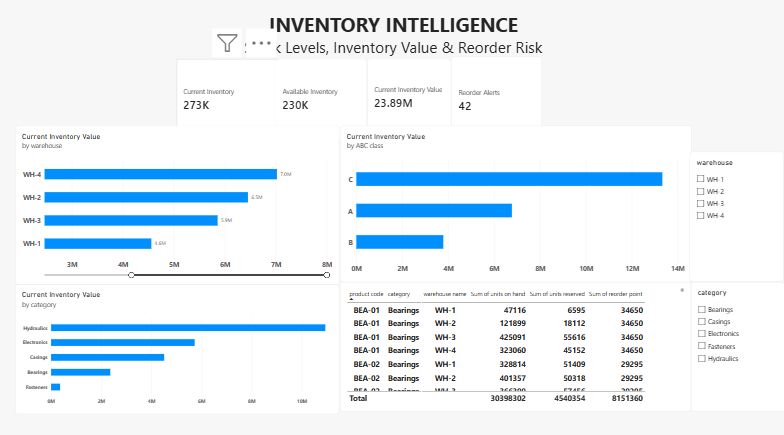

This screenshot's page, from the dashboard's own definition file:
{"tool":"powerbi","page":{"name":"Inventory Intelligence","canvas":[1920,1080],"ordinal":1},"visuals":[{"type":"textbox","box":[10,30,1910,143.3],"z":0},{"type":"cardVisual","fields":{"Data":["inventory_clean.Recent Inventory"]},"box":[433.2,148.9,245,200],"z":1000},{"type":"cardVisual","fields":{"Data":["inventory_clean.Available Inventory"]},"box":[676.8,148.9,222.5,200],"z":2000},{"type":"cardVisual","fields":{"Data":["inventory_clean.Current Inventory Value"]},"box":[900.1,148.9,205,190],"z":3000},{"type":"cardVisual","fields":{"Data":["inventory_clean.Reorder Alerts"]},"box":[1106.6,142.1,220,215],"z":4000},{"type":"clusteredBarChart","fields":{"Category":["warehouse_clean.warehouse_name"],"Y":["inventory_clean.Current Inventory Value"]},"box":[40.6,311.3,791.8,388.4],"z":5000},{"type":"clusteredBarChart","fields":{"Category":["product_clean.abc_class"],"Y":["inventory_clean.Current Inventory Value"]},"box":[832.5,311.3,859.5,382.4],"z":6000},{"type":"clusteredBarChart","fields":{"Category":["product_clean.category"],"Y":["inventory_clean.Current Inventory Value"]},"box":[40.6,700.5,792,317],"z":7000},{"type":"tableEx","fields":{"Values":["product_clean.product_code","product_clean.category","warehouse_clean.warehouse_name","Sum(inventory_clean.units_on_hand)","Sum(inventory_clean.units_reserved)","Sum(inventory_clean.reorder_point)"]},"box":[832.5,693.7,858,317],"z":8000},{"type":"listSlicer","fields":{"Values":["warehouse_clean.warehouse_name"]},"box":[1688.6,375.6,230,317],"z":9000},{"type":"listSlicer","fields":{"Values":["product_clean.category"]},"box":[1690,694,229,317],"z":10000}]}

Visuals, with their boxes in screenshot pixels (x1, y1, x2, y2), scaled from the page's 1920x1080 canvas onto the 784x435 screenshot:
textbox: Rect(4, 12, 783, 70)
cardVisual - inventory_clean.Recent Inventory: Rect(177, 60, 277, 141)
cardVisual - inventory_clean.Available Inventory: Rect(276, 60, 367, 141)
cardVisual - inventory_clean.Current Inventory Value: Rect(368, 60, 451, 137)
cardVisual - inventory_clean.Reorder Alerts: Rect(452, 57, 542, 144)
clusteredBarChart - warehouse_clean.warehouse_name x inventory_clean.Current Inventory Value: Rect(17, 125, 340, 282)
clusteredBarChart - product_clean.abc_class x inventory_clean.Current Inventory Value: Rect(340, 125, 691, 279)
clusteredBarChart - product_clean.category x inventory_clean.Current Inventory Value: Rect(17, 282, 340, 410)
tableEx - product_clean.product_code x product_clean.category: Rect(340, 279, 690, 407)
listSlicer - warehouse_clean.warehouse_name: Rect(690, 151, 783, 279)
listSlicer - product_clean.category: Rect(690, 280, 783, 407)
